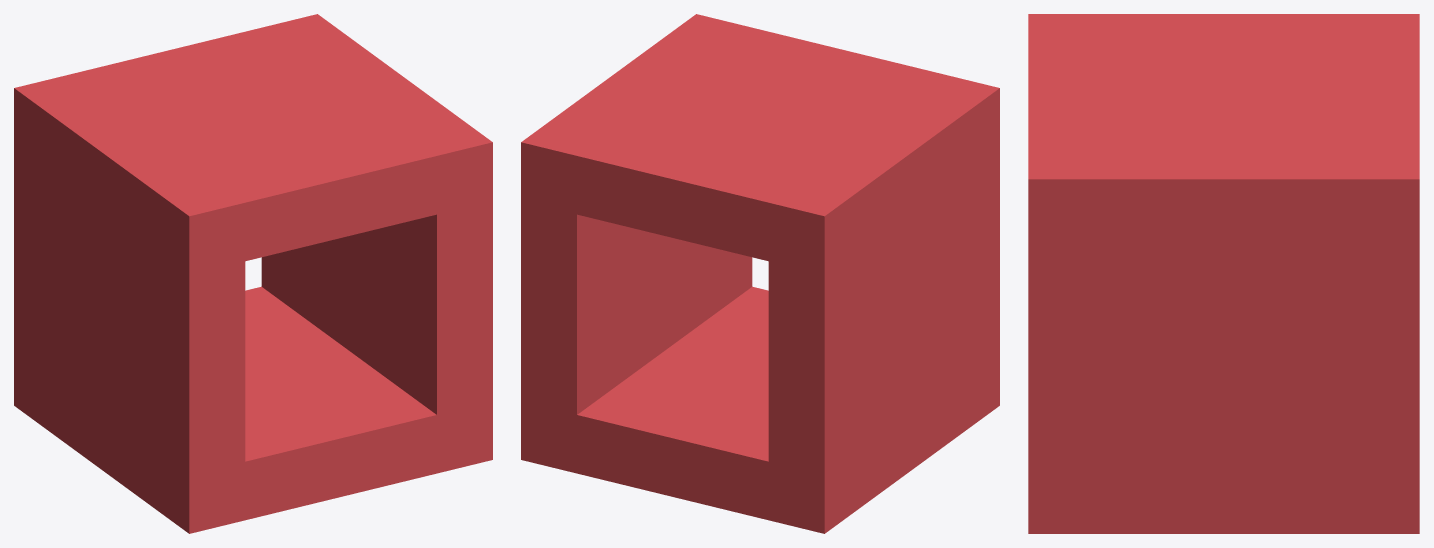
Rendered from boundary.fbx.
The picture shows the model from 3 angles, left to right: view 1: azimuth 30°, elevation 25°; view 2: azimuth 150°, elevation 25°; view 3: azimuth 270°, elevation 25°; orthographic projection. The views are drawn at different scales.
Visible parts, largest first — view 1: Cube; view 2: Cube; view 3: Cube.
Part boxes in pixels (left/top/right/bottom): Cube: left=14, top=14, right=492, bottom=533; Cube: left=521, top=14, right=999, bottom=533; Cube: left=1028, top=14, right=1419, bottom=533.
Size of the model in its own units: 200 by 200 by 200.
